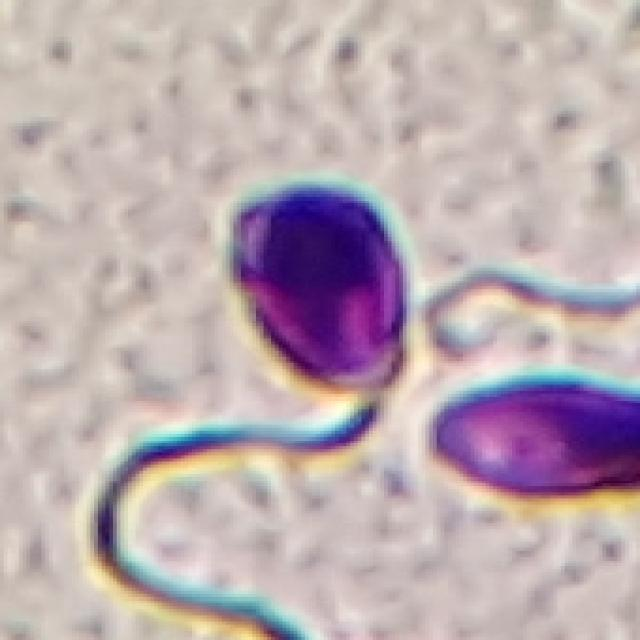normal sperm: (174, 180, 416, 463)
